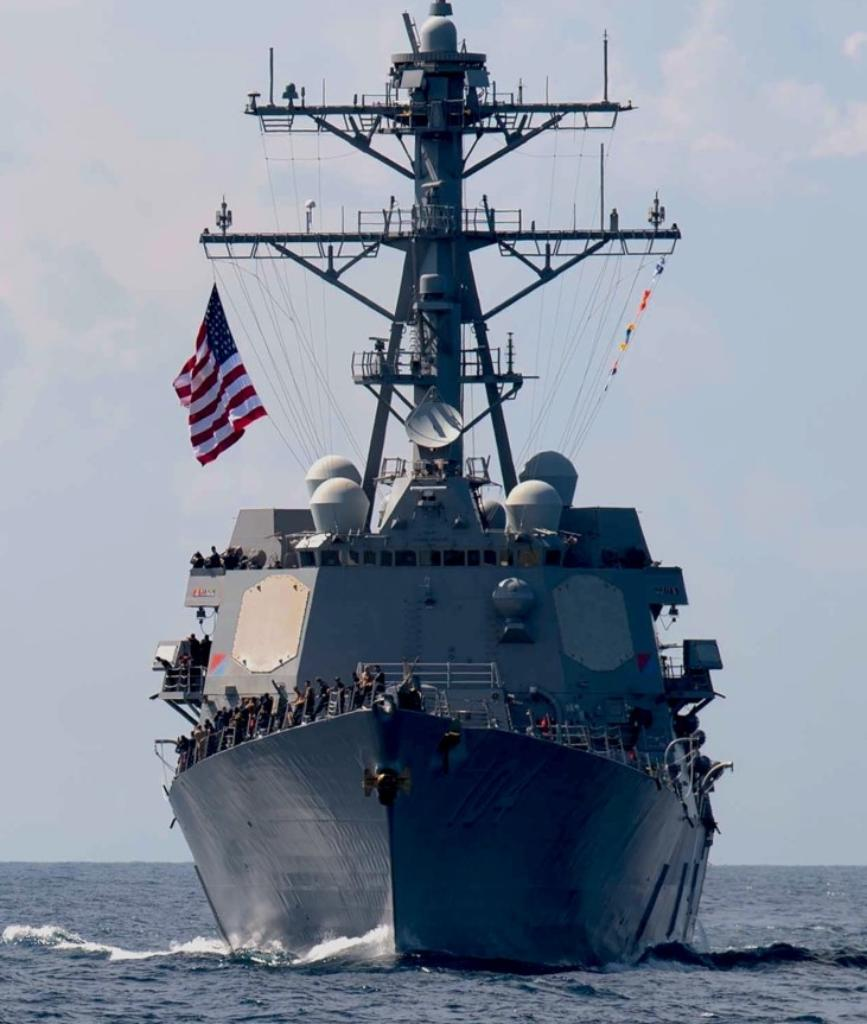Warship: (143, 2, 744, 986)
